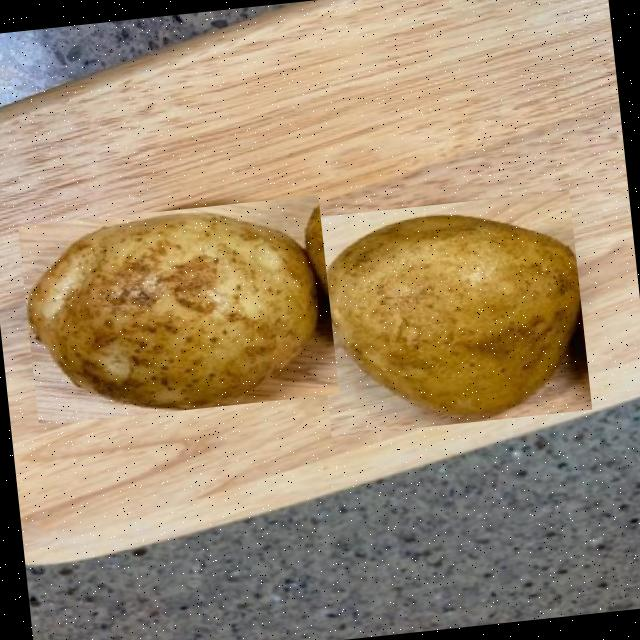Potato: (16, 193, 338, 424), (307, 189, 591, 436)
